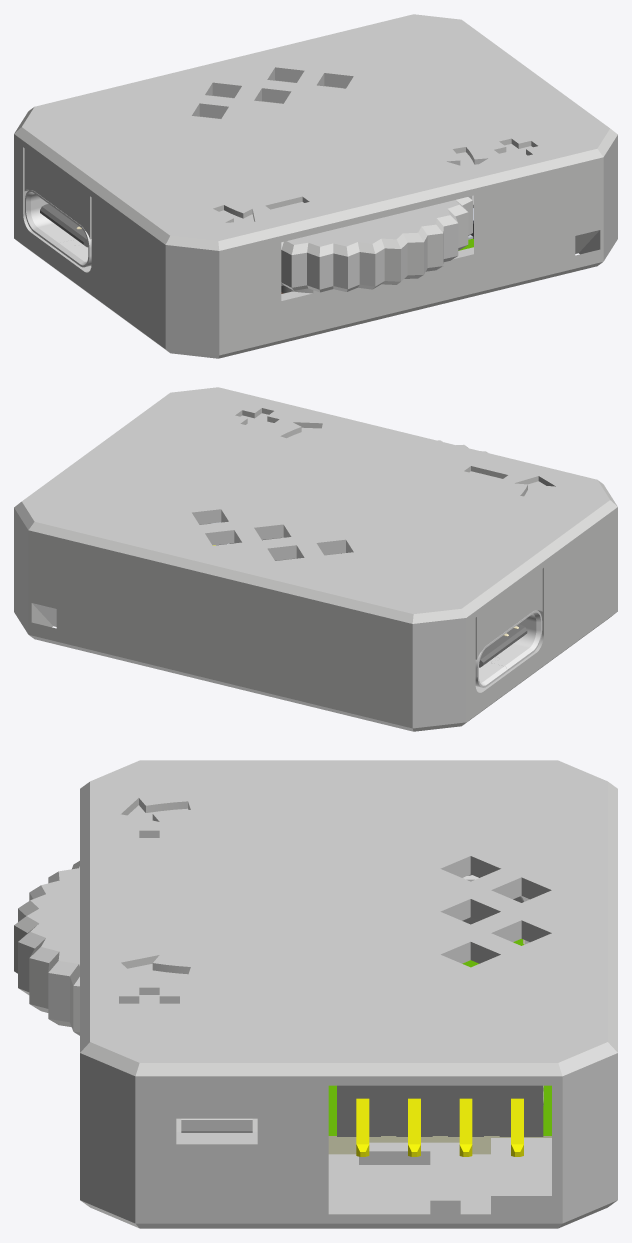
File: Arinu_v1.glb
3 views of the same model, one above another, from view 1: azimuth 30°, elevation 25°; view 2: azimuth 150°, elevation 25°; view 3: azimuth 270°, elevation 25° (orthographic). The views are drawn at different scales.
Visible parts, largest first — view 1: Body2.007, Body1.013, Body3.003, Body1.006; view 2: Body2.007, Body1.013, Body1.006; view 3: Body2.007, Body1.013, Body2.009, Body3.003, Body1.008, Body1.
Boxes of the visible parts, bbox=[...] form: Body2.007: bbox=[14, 14, 617, 257]; Body1.013: bbox=[14, 86, 617, 358]; Body3.003: bbox=[281, 196, 472, 292]; Body1.006: bbox=[25, 190, 91, 267]; Body2.007: bbox=[14, 387, 617, 659]; Body1.013: bbox=[14, 514, 617, 731]; Body1.006: bbox=[475, 610, 542, 687]; Body2.007: bbox=[80, 760, 617, 1132]; Body1.013: bbox=[80, 1062, 617, 1228]; Body2.009: bbox=[337, 1085, 543, 1136]; Body3.003: bbox=[14, 861, 79, 1035]; Body1.008: bbox=[356, 1098, 523, 1156]; Body1: bbox=[328, 938, 551, 1154].
Bounding box in the file's own units: 0.0363 × 0.009 × 0.0297.
